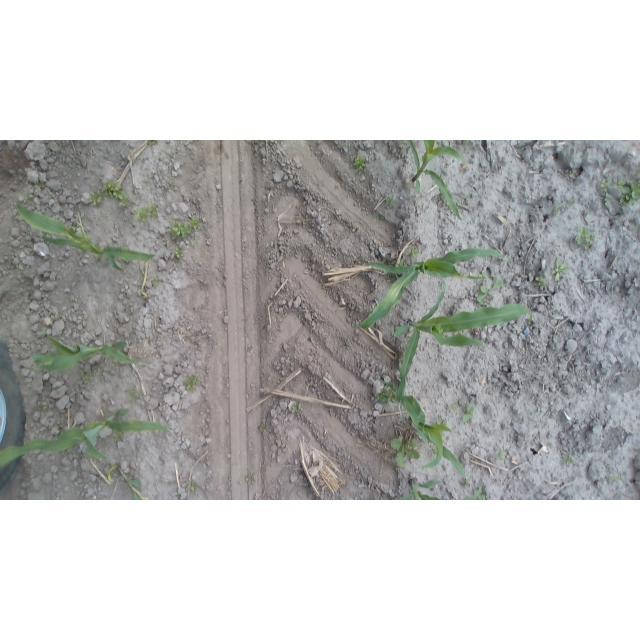Maize: (392, 278, 529, 419), (339, 250, 505, 330), (0, 404, 174, 472), (11, 198, 161, 270), (380, 371, 469, 481), (400, 140, 467, 224), (29, 332, 139, 376), (390, 477, 490, 499), (106, 461, 145, 499)
Weeds: (87, 179, 129, 208), (390, 435, 421, 469), (616, 173, 640, 210), (168, 218, 200, 242), (475, 278, 503, 303), (132, 202, 160, 224), (574, 226, 595, 250), (551, 258, 569, 283), (375, 386, 397, 404), (601, 179, 613, 209), (462, 402, 476, 424), (184, 374, 200, 392), (560, 453, 577, 468), (353, 157, 368, 172), (470, 487, 487, 500), (493, 449, 507, 464), (535, 276, 549, 289), (80, 370, 93, 384), (291, 401, 304, 415), (127, 388, 141, 401), (407, 246, 422, 258), (174, 246, 186, 259), (186, 480, 198, 492), (112, 432, 125, 443), (245, 472, 256, 485), (555, 204, 566, 216), (384, 197, 396, 208), (258, 421, 268, 434), (435, 418, 449, 426), (24, 192, 35, 202), (377, 214, 389, 223), (569, 170, 579, 180), (151, 277, 161, 287), (41, 404, 51, 414), (614, 473, 623, 483), (35, 180, 45, 189), (70, 223, 78, 234), (145, 140, 159, 146), (568, 199, 577, 208), (449, 404, 458, 413), (528, 316, 535, 325), (95, 365, 102, 374)
